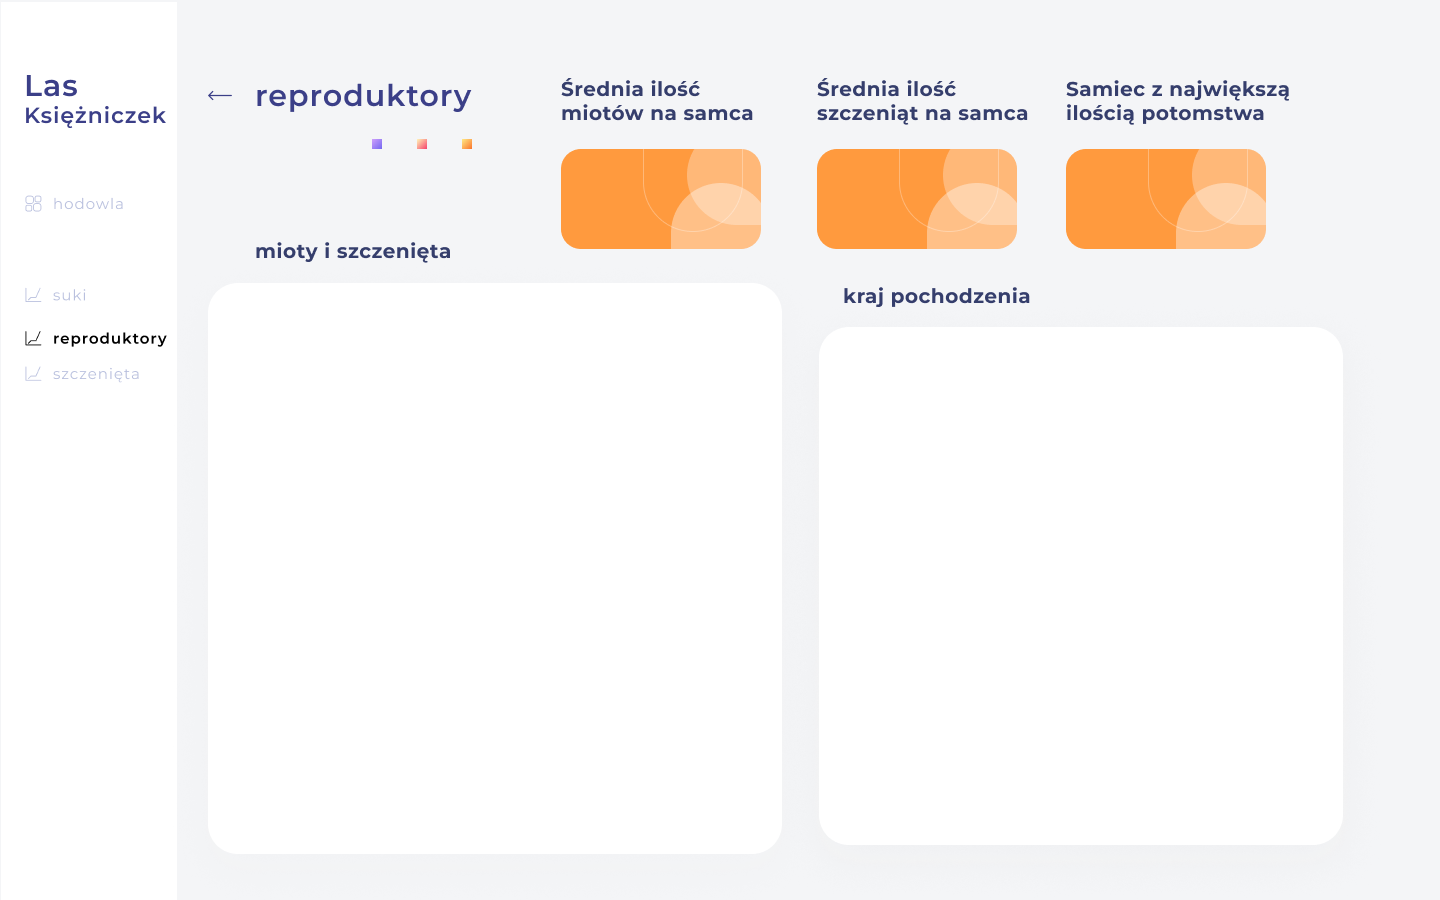

The page's visual inventory and layout, read from the dashboard file:
{"tool":"tableau","page":{"name":"FINAL_LK_P4","canvas":[1440,900],"ordinal":2},"visuals":[{"type":"image","param":"/Users/martamucha-balcerek/Desktop/analityk danych/hovawart-lk-analysis/work-on-","box":[0,0,1440,900]},{"type":"worksheet","title":"kpi avg litters per male dog","mark":"Automatic","box":[576,152,108,95]},{"type":"worksheet","title":"kpi male with most puppies","mark":"Automatic","box":[1066,152,212,93]},{"type":"worksheet","title":"kpi avg puppies per male dog","mark":"Automatic","box":[830,153,110,92]},{"type":"worksheet","title":"puppies for male dogs","mark":"Automatic","rows":["name_male_dog (copy)_0233083807866881","breeding_nickname_male_dog (copy)_0233083807682560"],"cols":["num_of_puppies_litter (copy)_0353480342503424"],"box":[225,294,539,546]},{"type":"legend","title":"puppies for male dogs","param":"[federated.157p3a41l7sm4x1g3uyqn0fsmavm].[__tableau_internal_object_id__].[cnt:m","box":[20,577,140,76]}]}

Visuals, with their boxes on the page's 1440x900 design canvas (x1, y1, x2, y2). These are canvas units, not pixel positions in the 1440x900 screenshot, which may show the page scaled, cropped or inside an application window:
image: <bbox>0, 0, 1440, 900</bbox>
"kpi avg litters per male dog" worksheet: <bbox>576, 152, 684, 247</bbox>
"kpi male with most puppies" worksheet: <bbox>1066, 152, 1278, 245</bbox>
"kpi avg puppies per male dog" worksheet: <bbox>830, 153, 940, 245</bbox>
"puppies for male dogs" worksheet: <bbox>225, 294, 764, 840</bbox>
"puppies for male dogs" legend: <bbox>20, 577, 160, 653</bbox>
